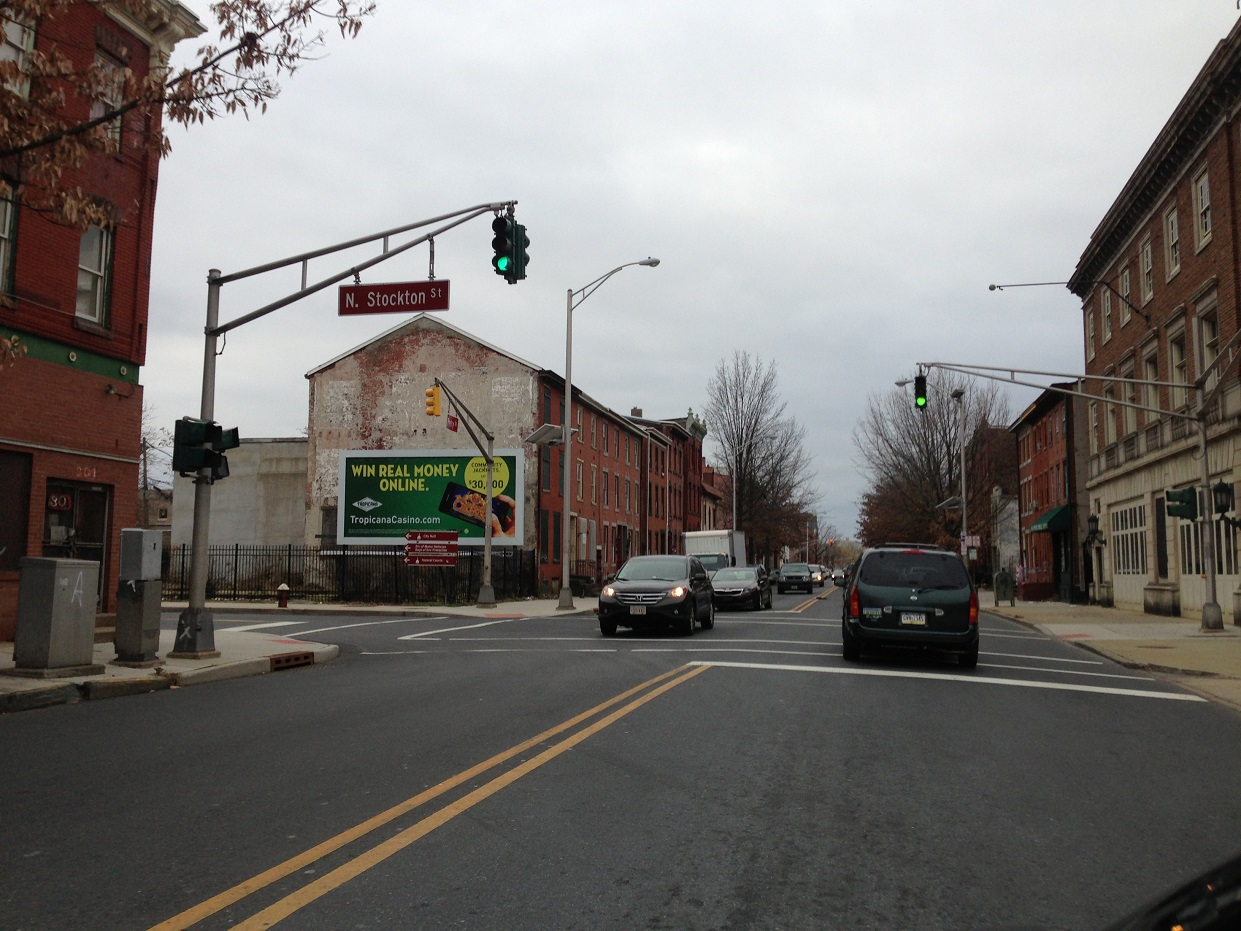traffic_light: (490, 214, 517, 276), (913, 374, 929, 411)
